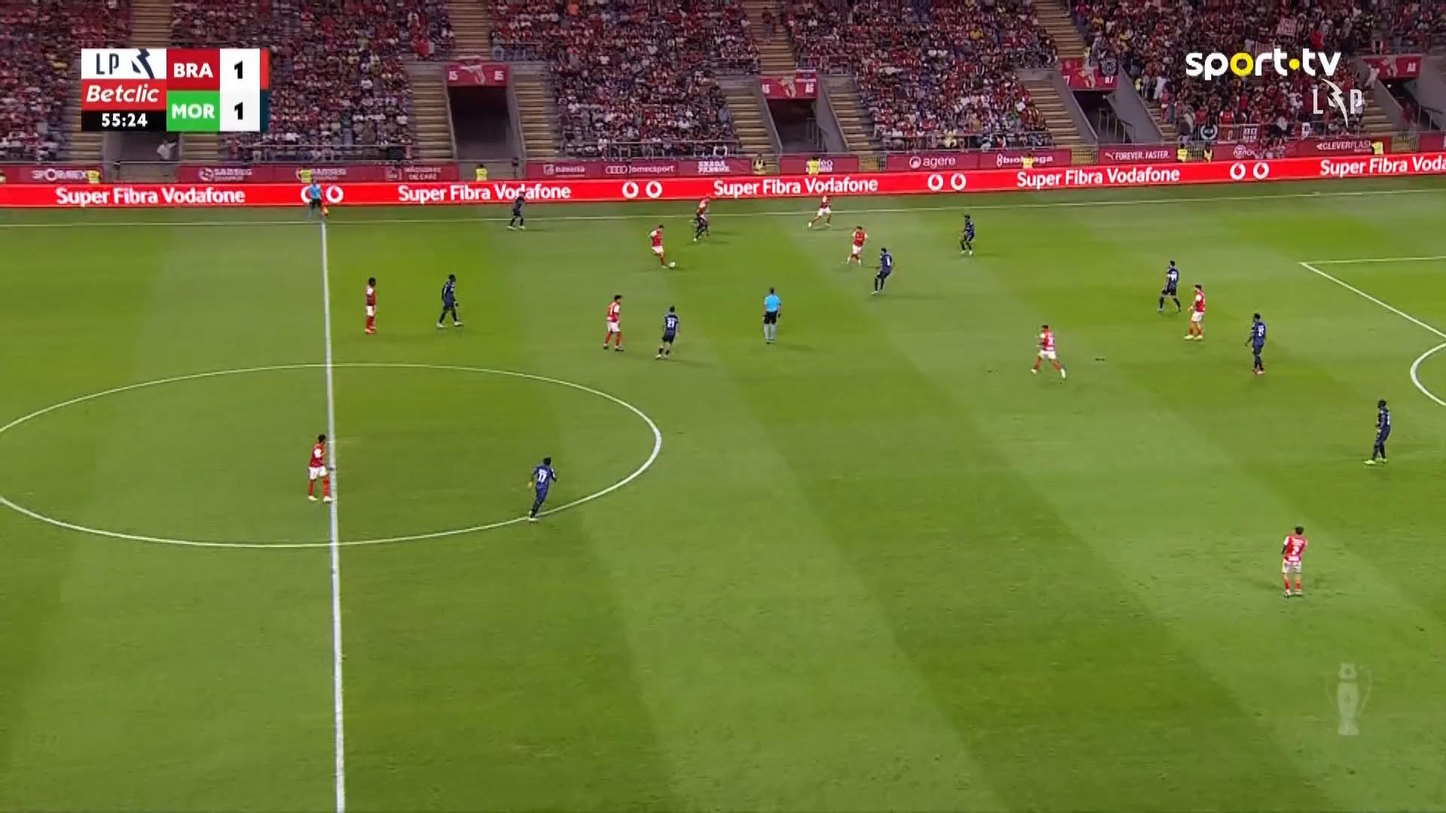ball: (317, 467, 328, 477), (667, 260, 676, 269)
player: (1030, 323, 1066, 381), (526, 455, 557, 520), (1280, 524, 1307, 596), (306, 434, 334, 503), (1364, 398, 1391, 464), (435, 273, 463, 328), (1243, 312, 1266, 375), (1156, 259, 1181, 313), (654, 305, 679, 359), (601, 294, 624, 351), (648, 223, 675, 269), (1183, 284, 1205, 340), (871, 246, 894, 294), (806, 191, 832, 229), (845, 224, 867, 265), (506, 188, 527, 230), (691, 196, 710, 242), (363, 276, 378, 334), (958, 213, 975, 255)
referee: (761, 286, 781, 343), (302, 178, 325, 218)
